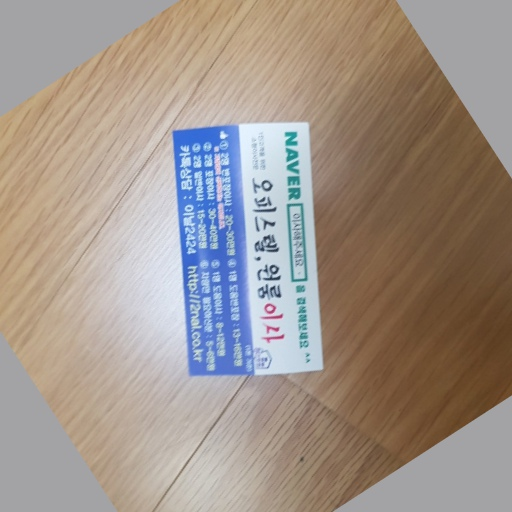Paper_2: (164, 117, 351, 393)
